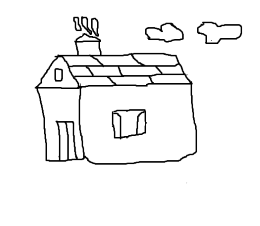clouds: (197, 20, 242, 45), (145, 21, 184, 42)
door: (53, 118, 84, 164)
open_window: (112, 109, 147, 138)
roof: (28, 51, 195, 92)
smoking_chimney: (67, 13, 106, 57)
wall: (75, 82, 205, 166)
